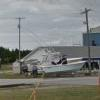Boat: (31, 54, 91, 75)
